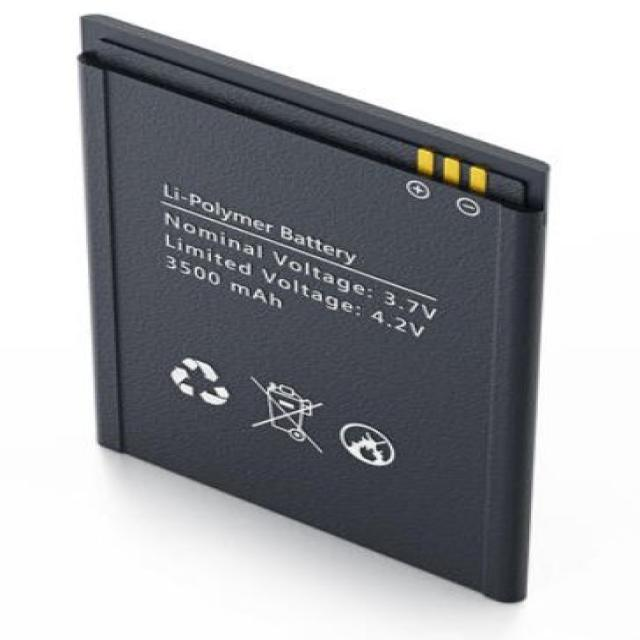electronic: (11, 2, 640, 637)
